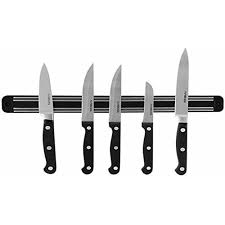knife: (35, 59, 61, 175), (77, 59, 98, 178), (105, 59, 125, 179), (174, 44, 191, 184), (139, 75, 159, 183)
